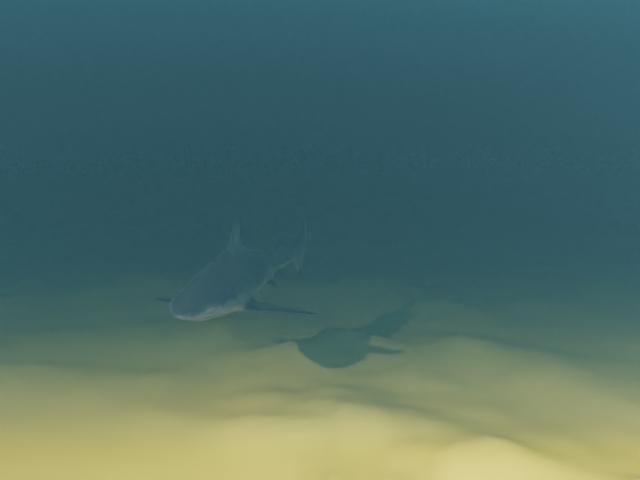Carribean Shark.001: (154, 203, 317, 321)
